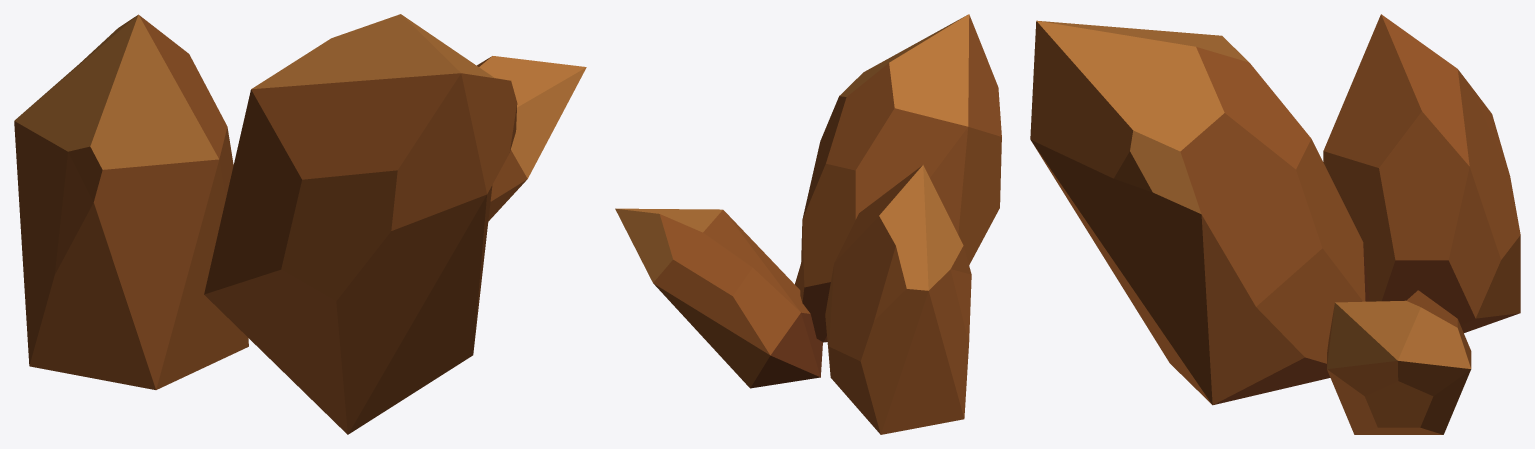
The model's file is CopperRock.glb.
3 renders of one model, left to right at view 1: azimuth 30°, elevation 25°; view 2: azimuth 150°, elevation 25°; view 3: azimuth 270°, elevation 25°, orthographic. The views are drawn at different scales.
Parts seen in each view (by area): view 1: Icosphere.002; view 2: Icosphere.002; view 3: Icosphere.002.
Boxes of the visible parts, box(x1,y1,x2,y2) form: Icosphere.002: box(14, 14, 586, 434); Icosphere.002: box(615, 14, 1001, 434); Icosphere.002: box(1030, 14, 1520, 434).
Size of the model in its own units: 0.5873 by 0.4507 by 0.5222.
